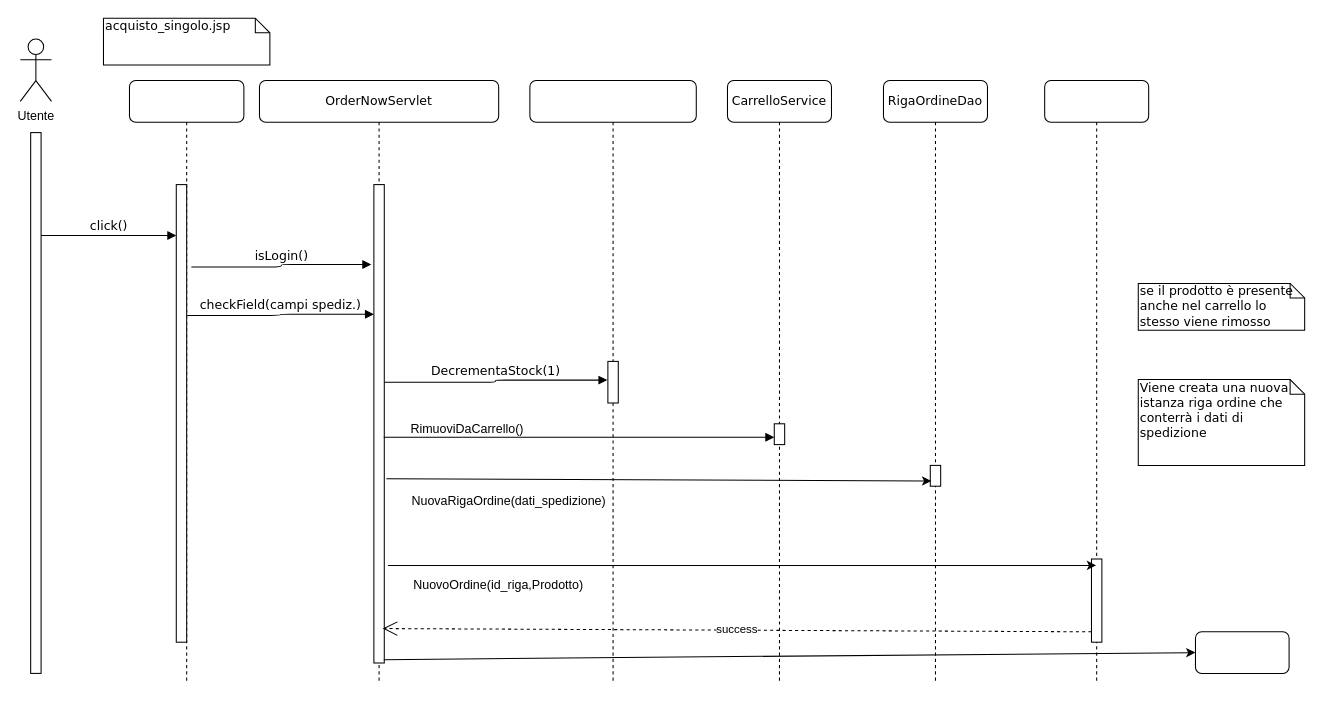
This 1323x702 diagram has some shape labels left out. Each missing label, with the box of its shape:
acquisto_singolo: (128, 80, 244, 684)
OrdineDao: (1044, 80, 1149, 684)
ordini.jsp: (1194, 631, 1289, 673)
ProdottoDao: (529, 80, 696, 684)
